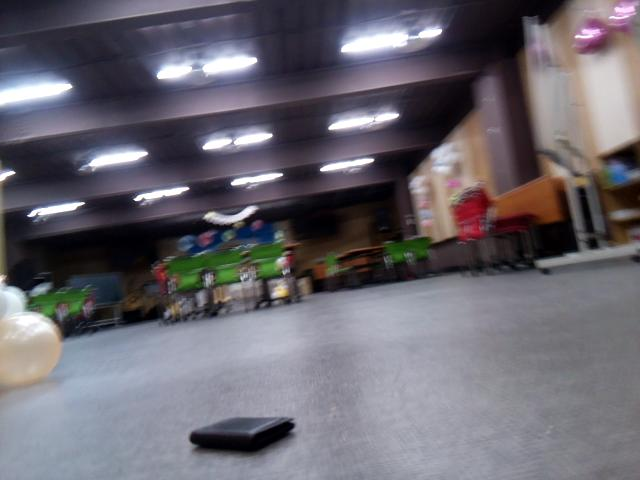wallet: (186, 403, 299, 456)
